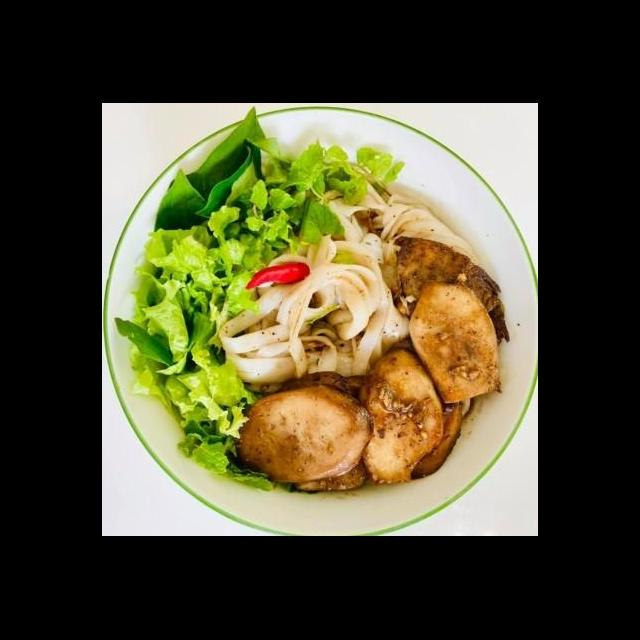mi: (212, 176, 414, 396), (378, 190, 479, 266)
thit heo: (231, 382, 376, 489), (385, 234, 514, 348), (356, 336, 449, 489), (270, 370, 382, 496), (404, 278, 507, 410), (402, 394, 465, 484)
